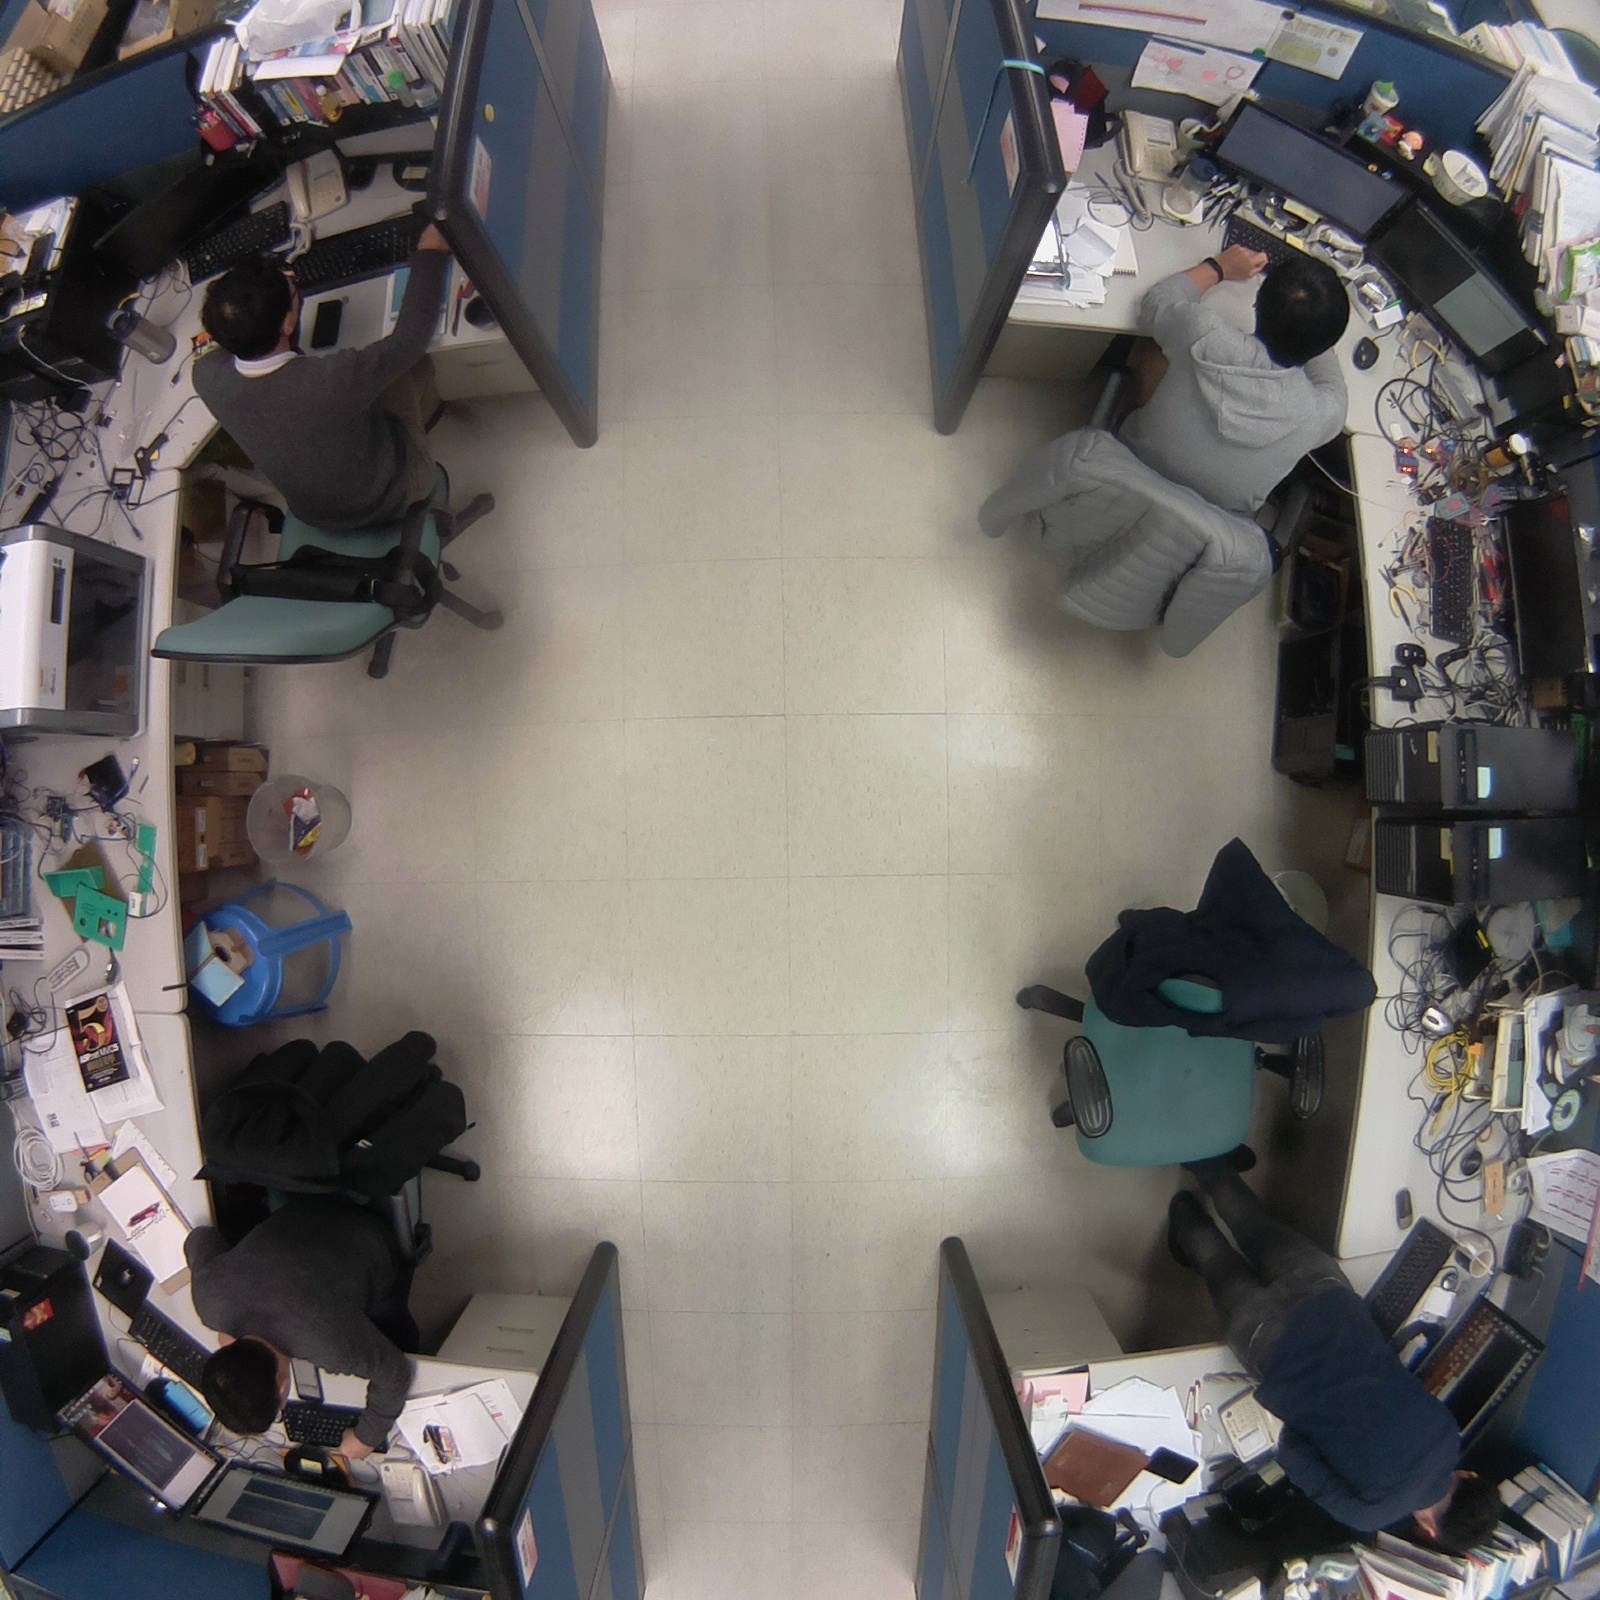chair: (988, 817, 1388, 1186)
head: (1246, 251, 1357, 365), (193, 1331, 297, 1444), (191, 255, 302, 361), (1408, 1457, 1506, 1557)
sitting: (129, 258, 529, 727), (960, 241, 1361, 683), (175, 996, 494, 1440)
standing: (1150, 1139, 1507, 1556)
